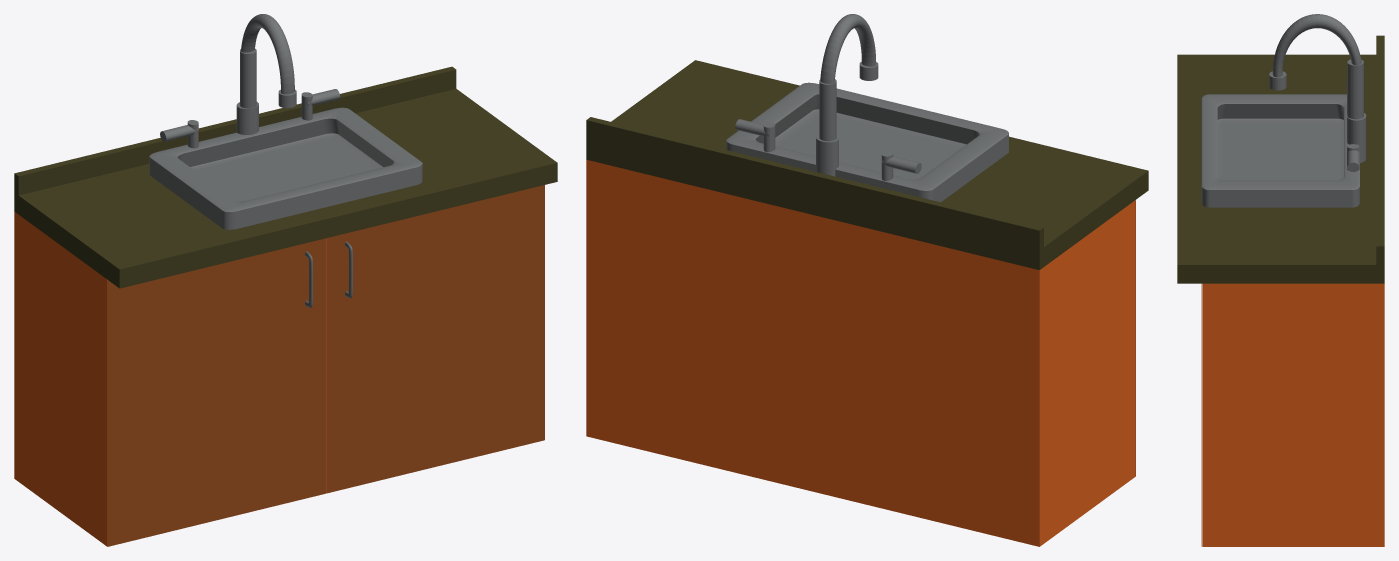
Rendered from sinkcabinetER.fbx.
The picture shows the model from 3 angles, left to right: view 1: azimuth 30°, elevation 25°; view 2: azimuth 150°, elevation 25°; view 3: azimuth 270°, elevation 25°; orthographic projection. The views are drawn at different scales.
Visible parts, largest first — view 1: Cabinet1_Door, Cabinet2_Door, Cabinet1, Countertop1, Cube, Countertop2, Torus, Cylinder, Cylinder.006; view 2: Cabinet1, Cabinet2, Countertop1, Countertop2, Cube, Torus, Cylinder, Cylinder.006; view 3: Cabinet2, Countertop2, Cube, Countertop1, Torus, Cylinder, Cylinder.006, Cylinder.005, Cylinder.002.
Boxes of the visible parts, left/top/right/bottom form: Cabinet1_Door: left=107, top=238, right=325, bottom=546; Cabinet2_Door: left=326, top=185, right=544, bottom=493; Cabinet1: left=14, top=212, right=107, bottom=546; Countertop1: left=14, top=120, right=338, bottom=288; Cube: left=149, top=107, right=422, bottom=229; Countertop2: left=234, top=66, right=557, bottom=234; Torus: left=241, top=14, right=294, bottom=94; Cylinder: left=240, top=48, right=256, bottom=108; Cylinder.006: left=236, top=102, right=258, bottom=134; Cabinet1: left=813, top=200, right=1135, bottom=546; Cabinet2: left=586, top=159, right=812, bottom=491; Countertop1: left=813, top=136, right=1148, bottom=269; Countertop2: left=586, top=60, right=816, bottom=214; Cube: left=726, top=82, right=1008, bottom=202; Torus: left=820, top=14, right=875, bottom=83; Cylinder: left=819, top=79, right=836, bottom=141; Cylinder.006: left=816, top=134, right=838, bottom=176; Cabinet2: left=1202, top=283, right=1384, bottom=546; Countertop2: left=1177, top=141, right=1384, bottom=283; Cube: left=1201, top=94, right=1359, bottom=207; Countertop1: left=1177, top=35, right=1384, bottom=159; Torus: left=1272, top=14, right=1361, bottom=77; Cylinder: left=1347, top=59, right=1363, bottom=119; Cylinder.006: left=1347, top=113, right=1366, bottom=162; Cylinder.005: left=1269, top=71, right=1286, bottom=90; Cylinder.002: left=1347, top=150, right=1359, bottom=171.
Bounding box in the file's own units: 120 × 114 × 50.
